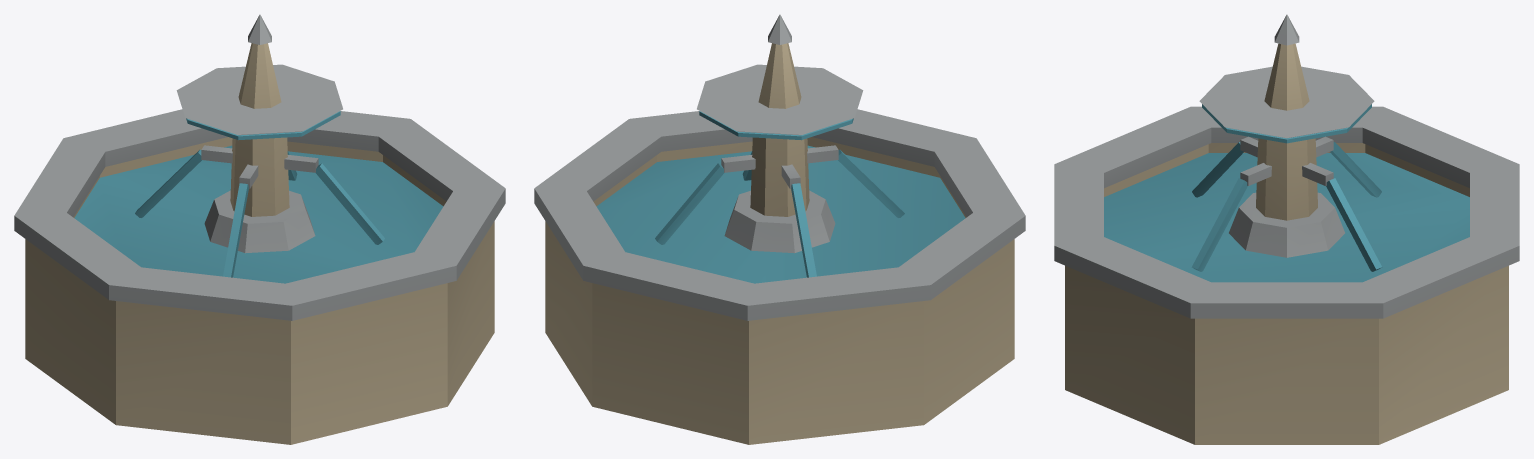
Rendered from fountain.glb.
3 renders of one model, left to right at view 1: azimuth 30°, elevation 25°; view 2: azimuth 150°, elevation 25°; view 3: azimuth 270°, elevation 25°, orthographic.
Visible parts, largest first — view 1: fountain; view 2: fountain; view 3: fountain.
Part boxes in pixels (x1,y1,x2,y2): fountain: (14, 14, 505, 444); fountain: (534, 14, 1025, 444); fountain: (1054, 14, 1519, 444).
Size of the model in its own units: 3.29 by 2.63 by 3.29.
